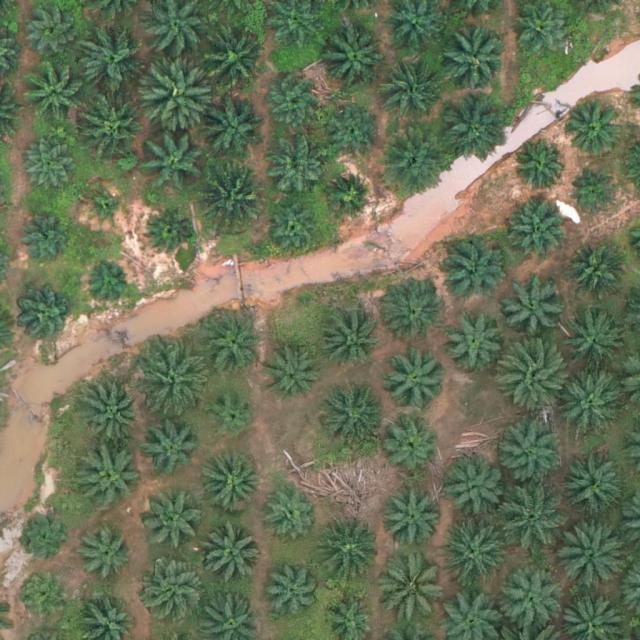Healthy: (435, 19, 506, 90), (80, 24, 150, 95), (144, 127, 214, 198), (147, 59, 217, 130), (380, 131, 450, 202), (438, 96, 508, 167), (499, 484, 569, 555), (495, 415, 565, 486), (499, 340, 569, 411), (437, 515, 507, 586), (138, 346, 208, 417), (79, 88, 149, 158), (202, 22, 272, 92), (201, 160, 271, 230), (318, 19, 388, 89), (376, 57, 446, 127), (559, 519, 629, 589), (380, 555, 450, 625), (24, 61, 87, 124), (505, 204, 568, 267), (382, 278, 445, 341), (385, 347, 448, 410), (320, 384, 383, 447), (202, 99, 264, 162), (204, 314, 266, 377), (263, 141, 325, 204), (504, 276, 566, 339), (442, 310, 505, 372), (440, 238, 502, 301), (320, 309, 382, 372), (559, 372, 621, 435), (561, 455, 623, 518), (501, 569, 563, 632), (443, 458, 505, 521), (384, 488, 446, 551), (317, 521, 380, 583), (201, 522, 263, 585), (141, 560, 203, 623), (74, 523, 136, 586), (565, 314, 627, 376), (201, 452, 263, 514), (144, 488, 206, 550), (84, 382, 146, 444), (78, 448, 140, 510), (28, 4, 83, 59), (23, 141, 78, 196), (21, 291, 76, 346), (323, 169, 378, 224), (267, 76, 322, 131), (268, 203, 323, 258), (513, 140, 568, 195), (18, 571, 73, 626), (385, 417, 440, 472), (267, 348, 322, 403), (144, 424, 199, 479), (18, 509, 73, 564), (20, 208, 74, 263), (327, 104, 381, 159), (568, 245, 622, 300), (565, 101, 619, 156), (265, 563, 319, 618), (263, 486, 317, 541)
Small: (145, 208, 192, 255), (86, 260, 133, 307), (209, 392, 256, 439), (573, 173, 620, 220), (87, 190, 126, 230)
